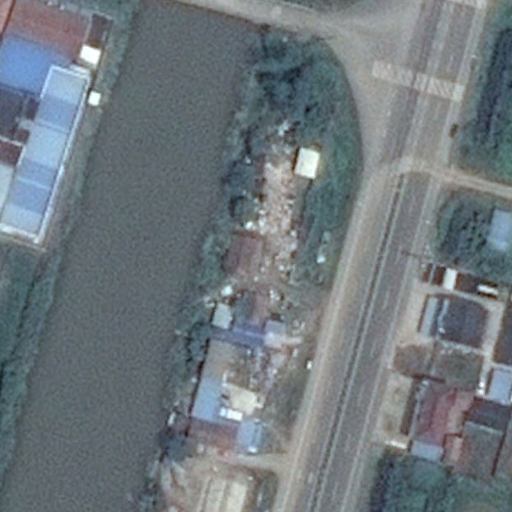msw: (246, 140, 303, 272)
